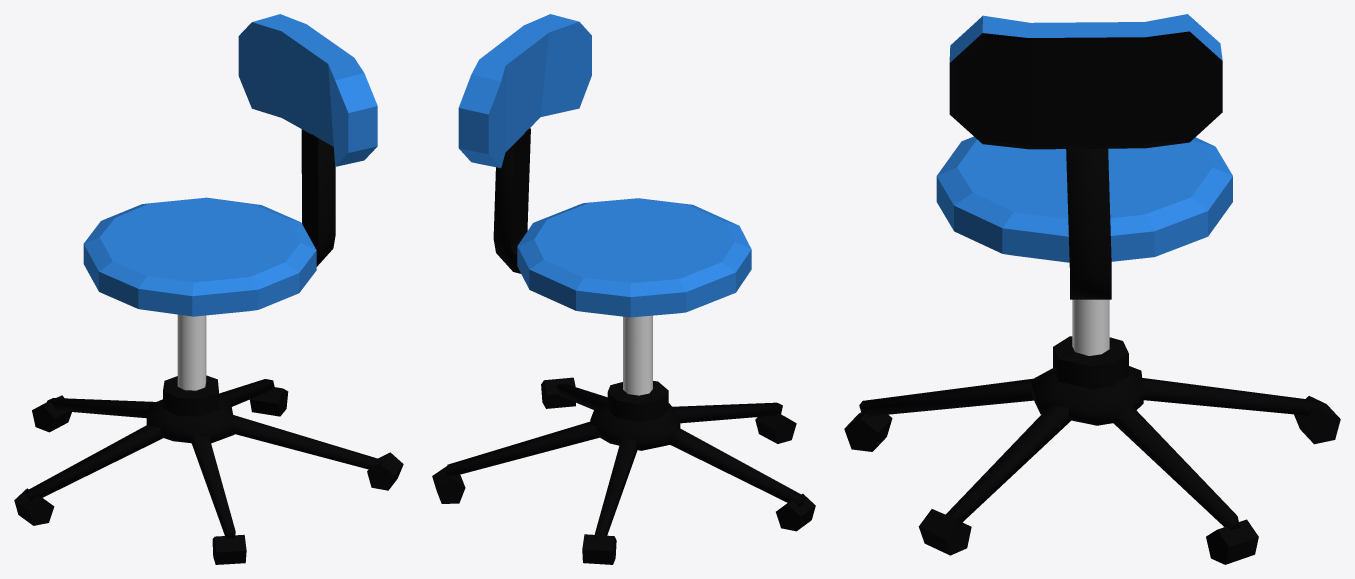
File: CADEIRA OPTICA (1).fbx
3 views of the same model, side by side, from view 1: azimuth 30°, elevation 25°; view 2: azimuth 150°, elevation 25°; view 3: azimuth 270°, elevation 25° (orthographic). The views are drawn at different scales.
Parts seen in each view (by area): view 1: bancos, rodas e estrutura; view 2: bancos, rodas e estrutura; view 3: bancos, rodas e estrutura.
Part boxes in pixels (x1,y1,x2,y2): bancos: (83,14,377,316); rodas e estrutura: (14,129,403,564); bancos: (458,14,751,317); rodas e estrutura: (432,128,815,564); bancos: (936,14,1232,262); rodas e estrutura: (844,148,1340,564).
Bounding box in the file's own units: 2.22 × 2.69 × 2.32.
